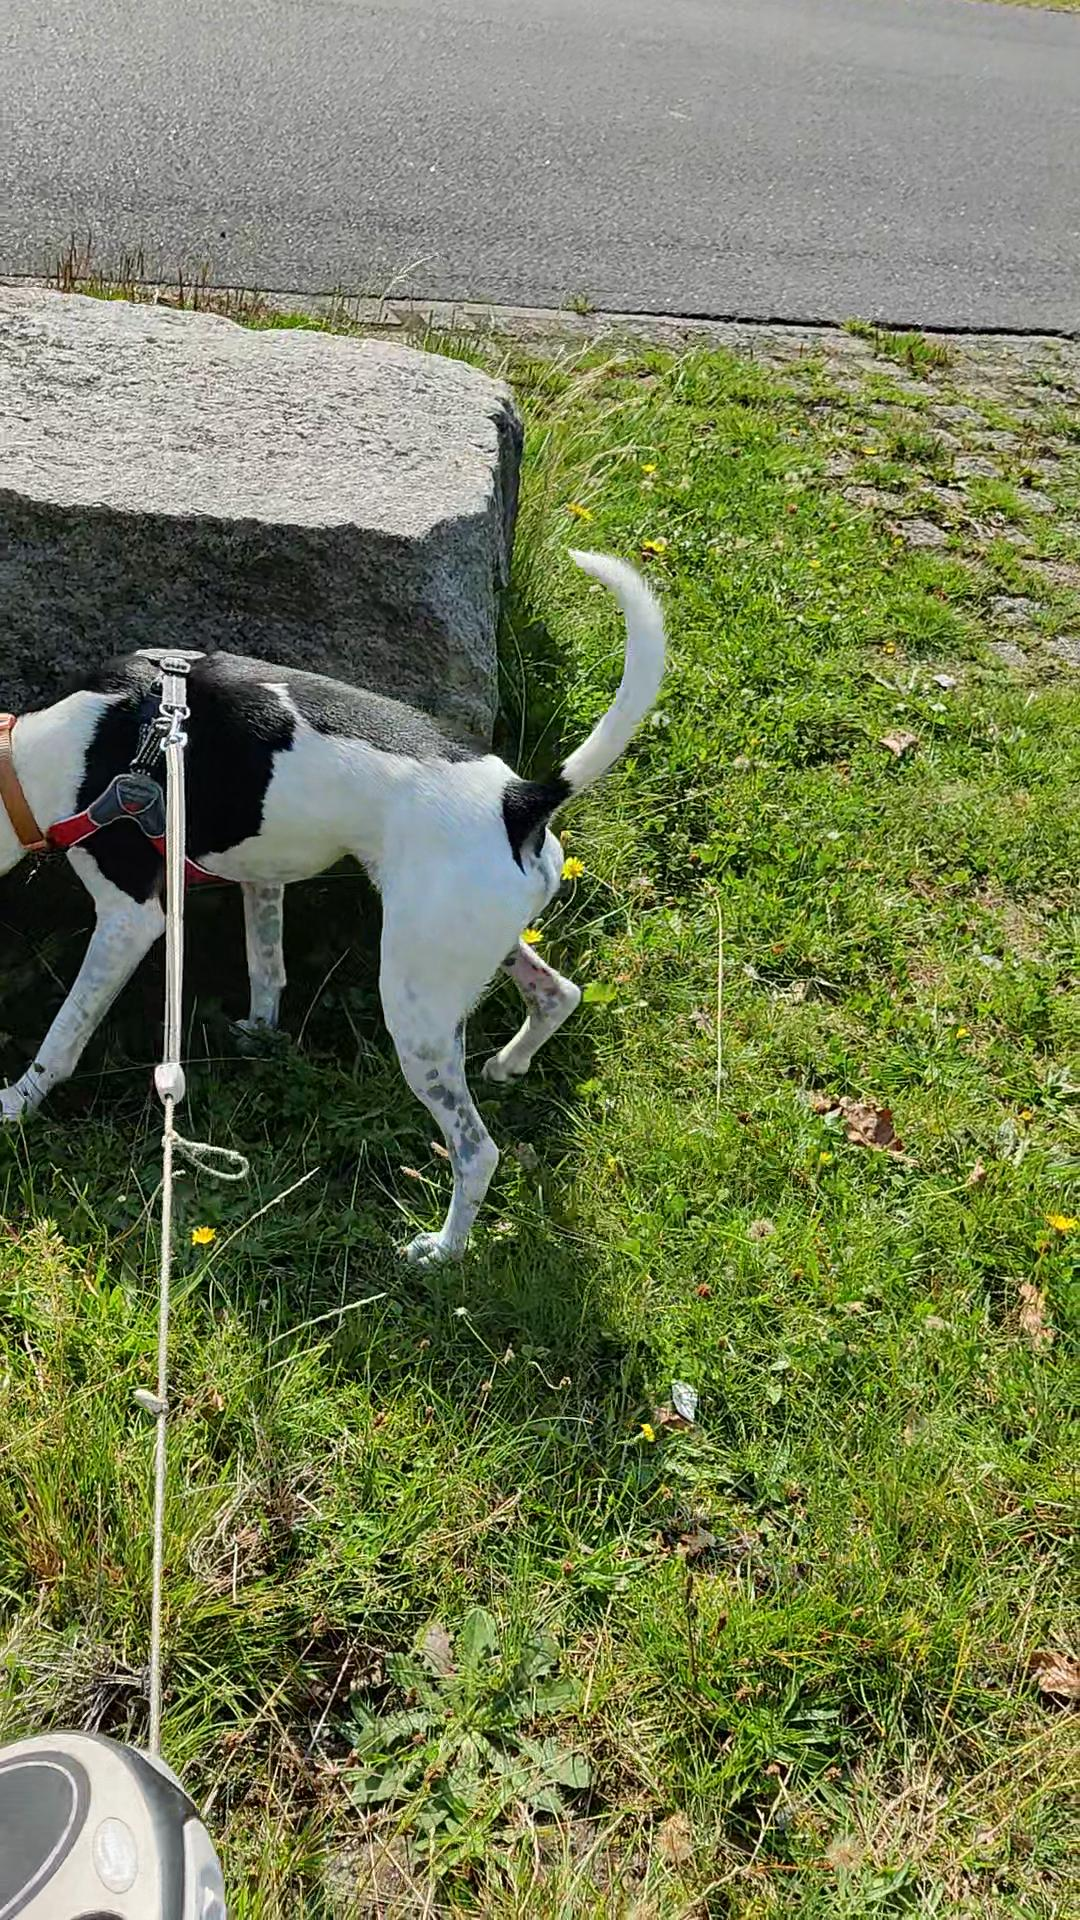Dog: (0, 529, 684, 1275)
